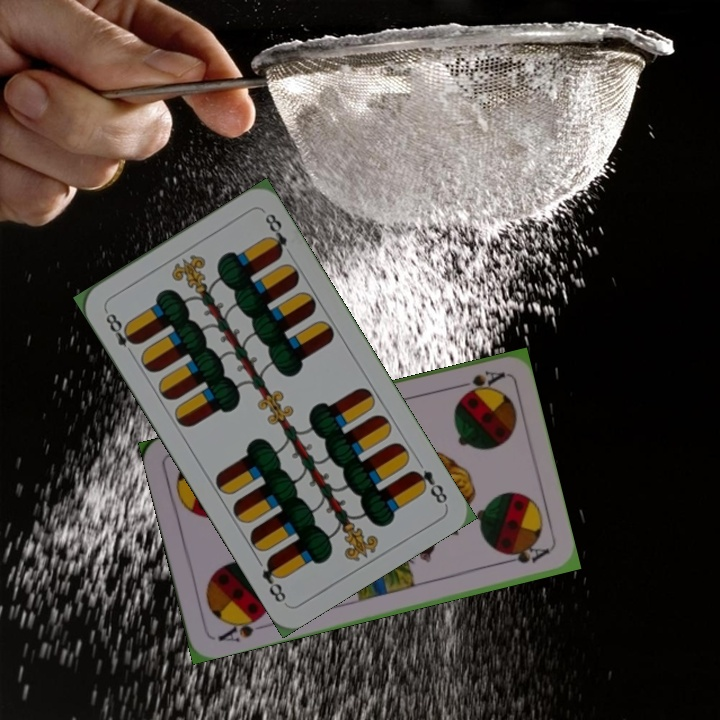E8: (101, 306, 141, 359), (407, 465, 450, 507)
SA: (214, 610, 270, 645), (448, 366, 507, 398)
